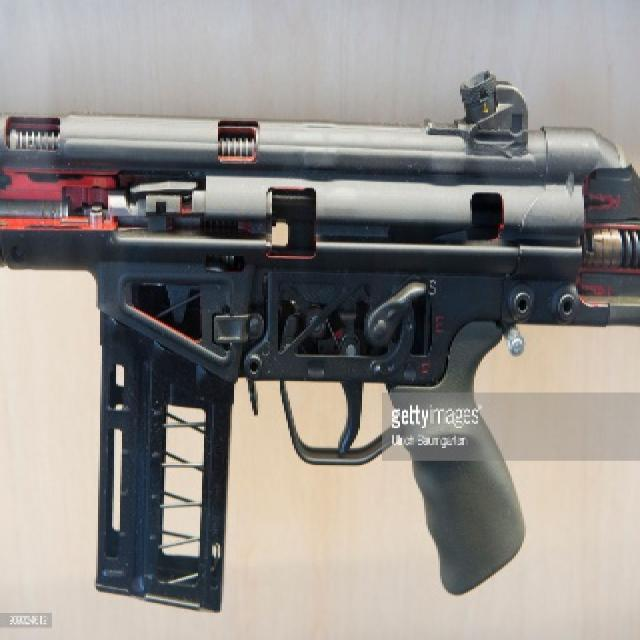weapon: (0, 98, 638, 578)
